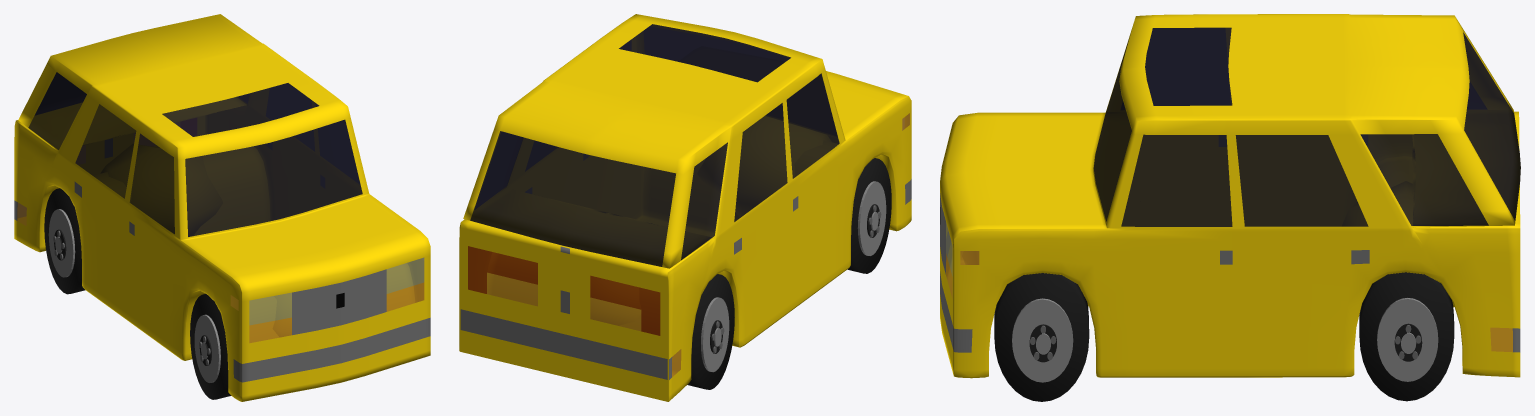
The model's file is car3wagonYellow.fbx.
3 views of the same model, side by side, from view 1: azimuth 30°, elevation 25°; view 2: azimuth 150°, elevation 25°; view 3: azimuth 270°, elevation 25° (orthographic). The views are drawn at different scales.
Parts seen in each view (by area): view 1: Car2, LugNut.001, LugNut.002; view 2: Car2, LugNut.002, LugNut.001; view 3: Car2, LugNut.004, LugNut.003.
Part boxes in pixels (x1=…): Car2: x1=14, y1=14, x2=430, y2=401; LugNut.001: x1=190, y1=294, x2=231, y2=399; LugNut.002: x1=44, y1=188, x2=85, y2=294; Car2: x1=459, y1=14, x2=911, y2=401; LugNut.002: x1=687, y1=274, x2=734, y2=389; LugNut.001: x1=847, y1=158, x2=891, y2=273; Car2: x1=940, y1=14, x2=1520, y2=378; LugNut.004: x1=994, y1=273, x2=1089, y2=401; LugNut.003: x1=1359, y1=272, x2=1454, y2=401.
Size of the model in its own units: 187 by 204 by 385.
